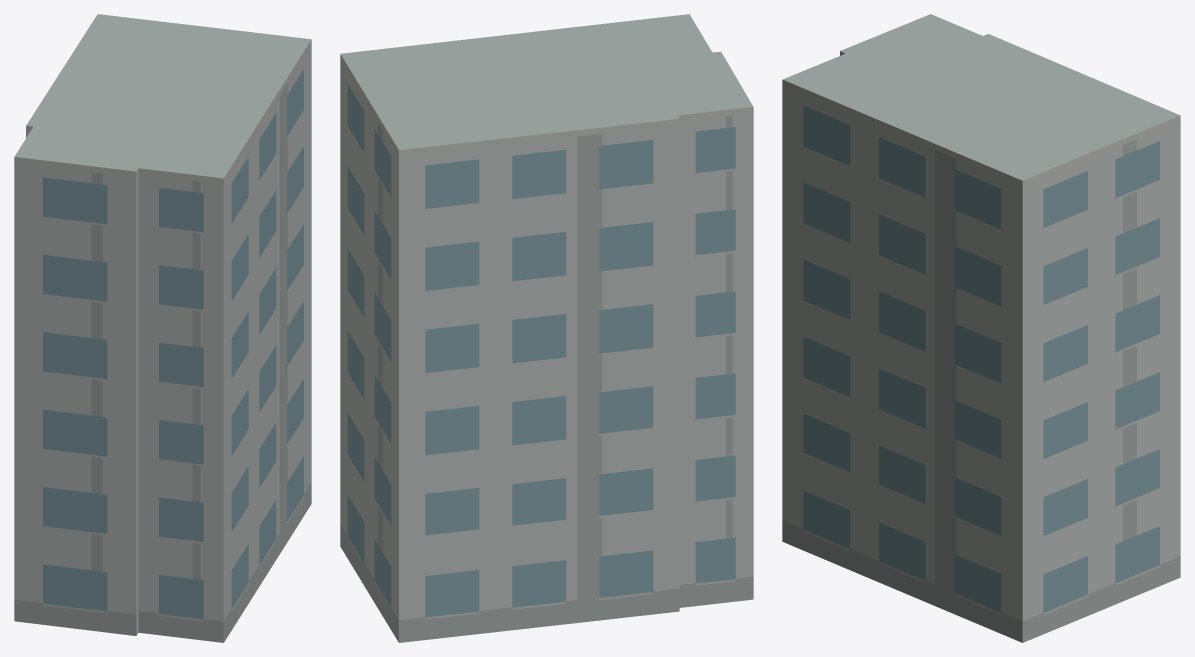
File: survey-upis-32768978.glb
3 renders of one model, left to right at view 1: azimuth 30°, elevation 25°; view 2: azimuth 150°, elevation 25°; view 3: azimuth 270°, elevation 25°, orthographic. The views are drawn at different scales.
Visible parts, largest first — view 1: survey-upis-32768978.tmp; view 2: survey-upis-32768978.tmp; view 3: survey-upis-32768978.tmp.
Part boxes in pixels (x1,y1,x2,y2): survey-upis-32768978.tmp: (14,14,311,642); survey-upis-32768978.tmp: (340,14,753,642); survey-upis-32768978.tmp: (782,14,1180,642).
Bounding box in the file's own units: 14.55 × 18.8 × 14.68.
